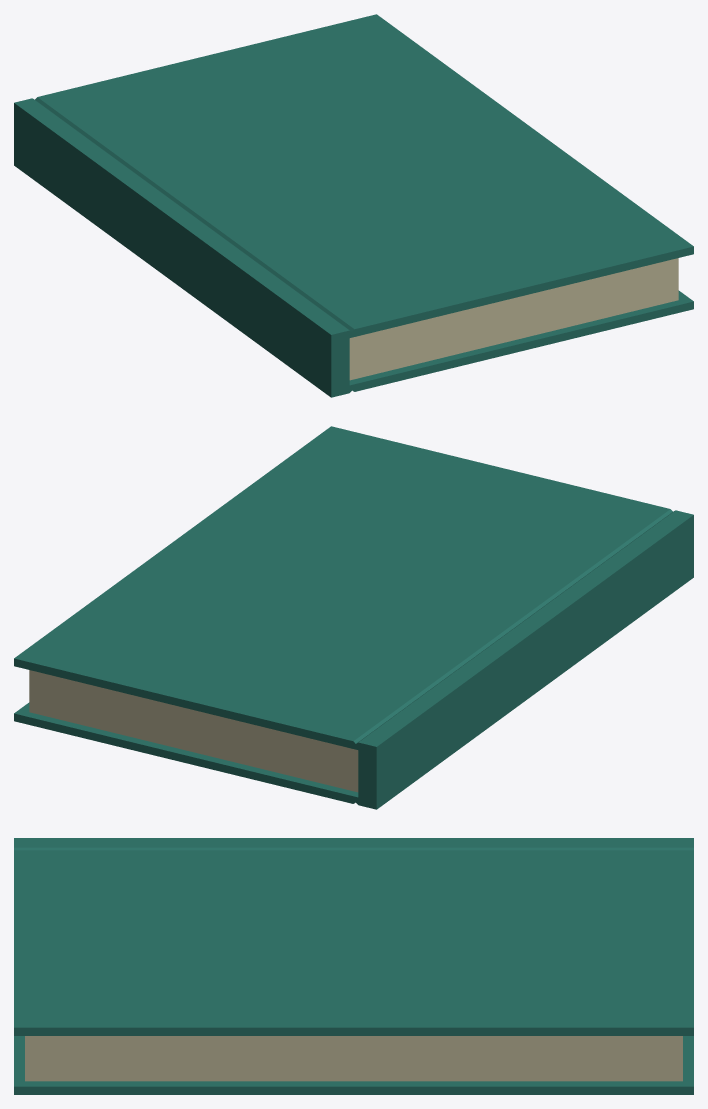
The model's file is Book_Fishing_vc.fbx.
3 renders of one model, top to bottom at view 1: azimuth 30°, elevation 25°; view 2: azimuth 150°, elevation 25°; view 3: azimuth 270°, elevation 25°, orthographic. The views are drawn at different scales.
Parts seen in each view (by area): view 1: Book_Fishing_vc; view 2: Book_Fishing_vc; view 3: Book_Fishing_vc.
Part boxes in pixels (x1,y1,x2,y2): Book_Fishing_vc: (14,14,693,397); Book_Fishing_vc: (14,426,693,809); Book_Fishing_vc: (14,838,693,1094).
Size of the model in its own units: 11.52 by 1.91 by 17.45.
